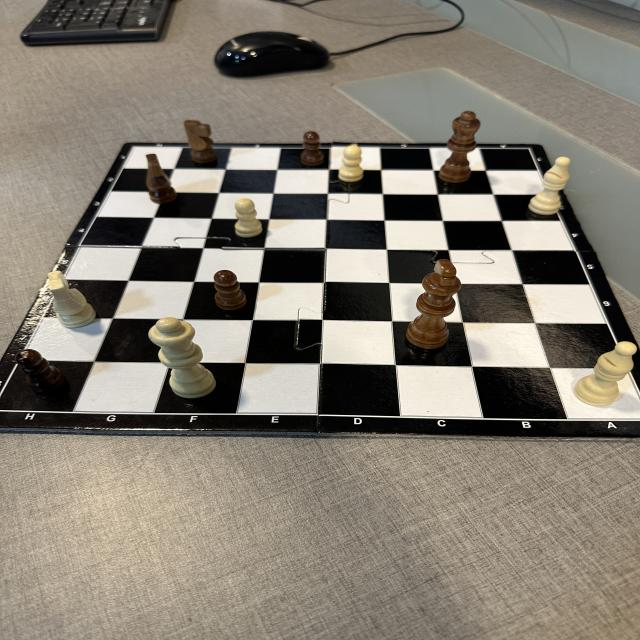Black-King: (406, 258, 462, 349)
Black-Knight: (146, 153, 178, 204), (184, 120, 218, 164)
Black-Pawn: (14, 349, 66, 393), (214, 270, 248, 311), (300, 132, 325, 166)
Black-Queen: (438, 110, 482, 183)
White-Bishop: (572, 341, 638, 407), (529, 157, 570, 215)
White-Knight: (48, 270, 96, 328)
White-Pawn: (234, 198, 263, 238), (337, 146, 364, 182)
White-Queen: (148, 317, 217, 399)
